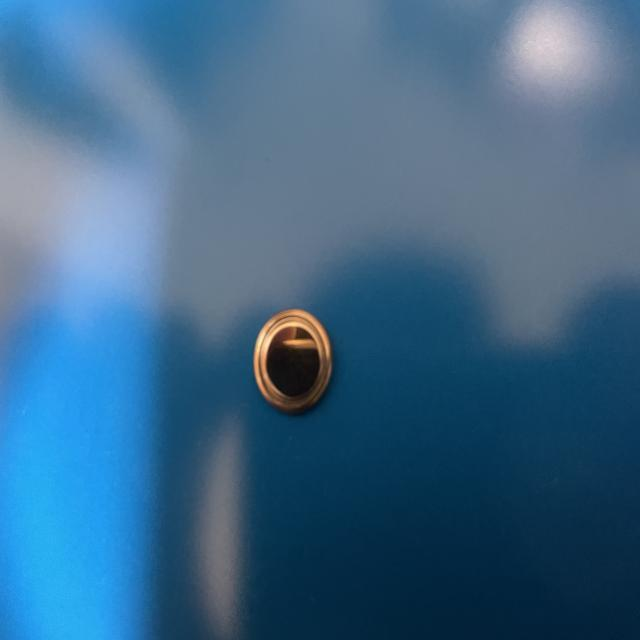COIN: (252, 310, 334, 408)
